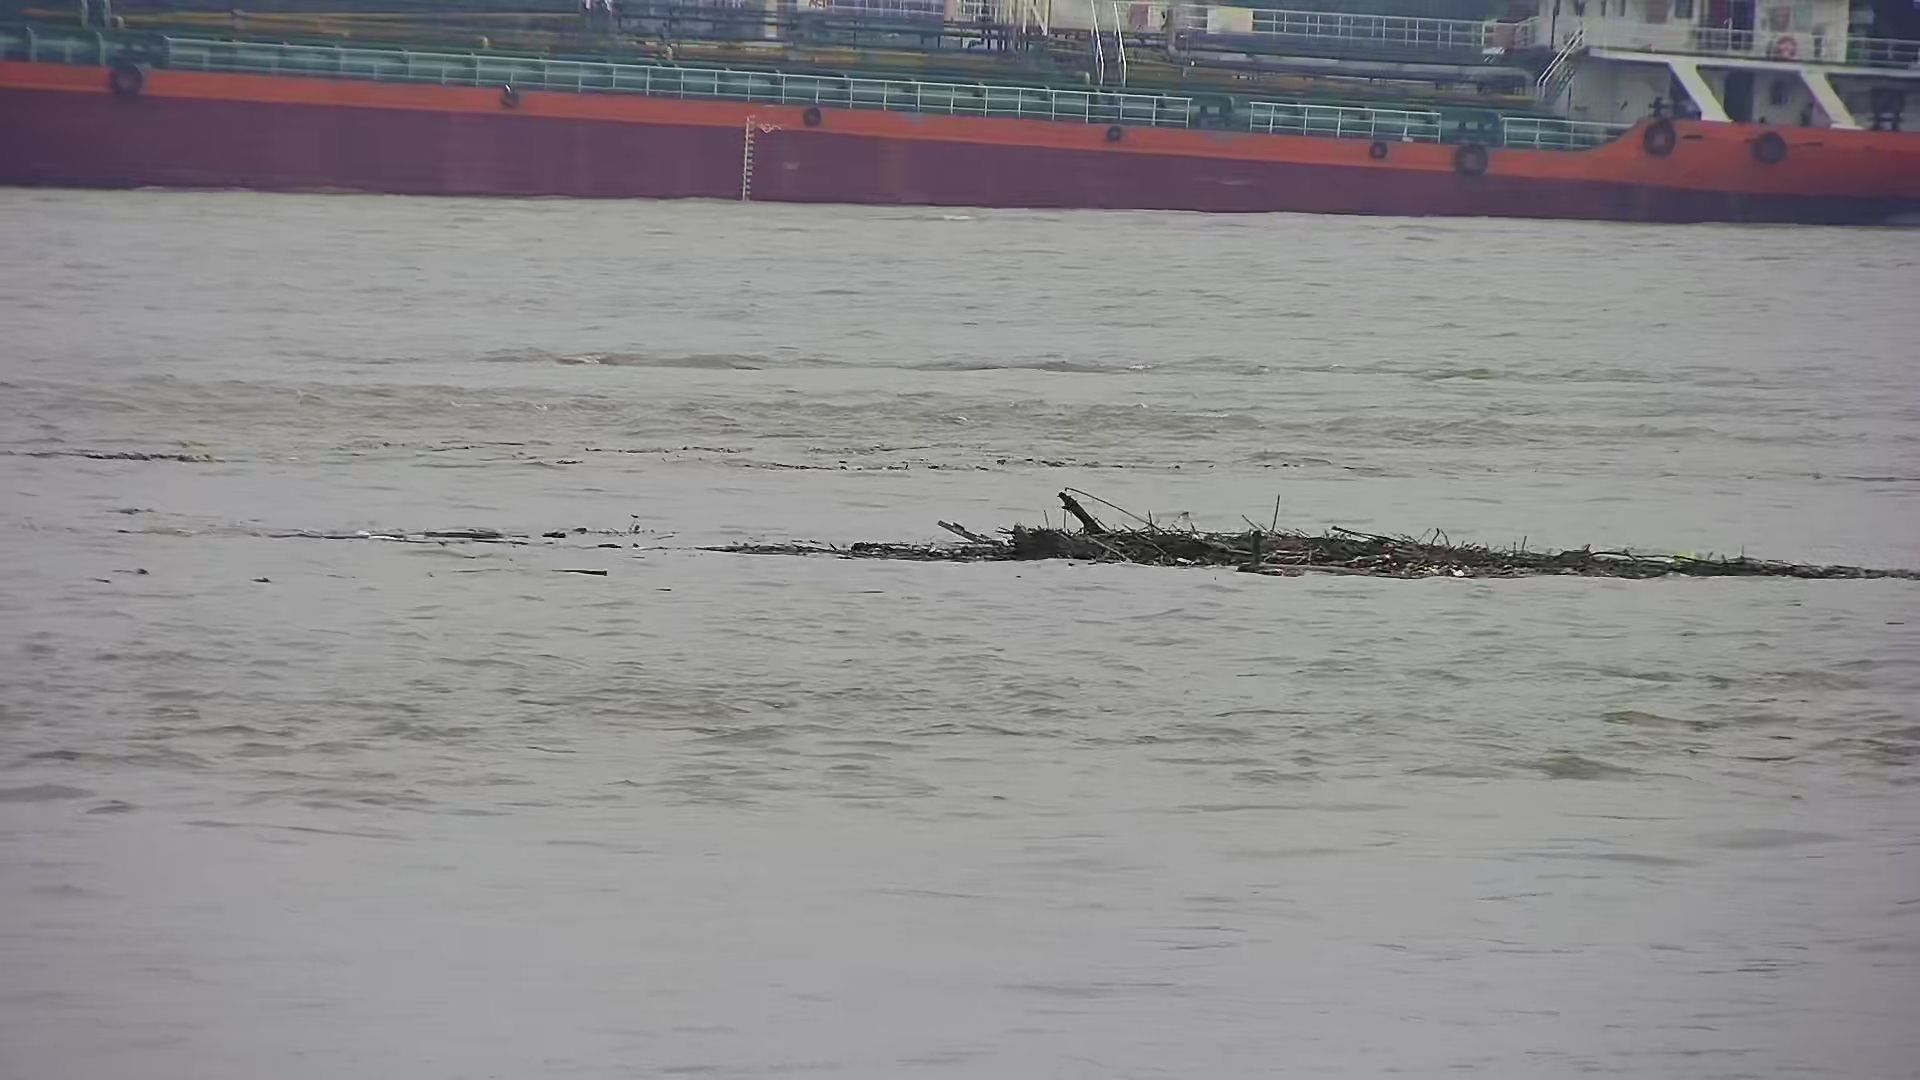grass: (713, 477, 1899, 589)
ship: (7, 3, 1909, 235)
